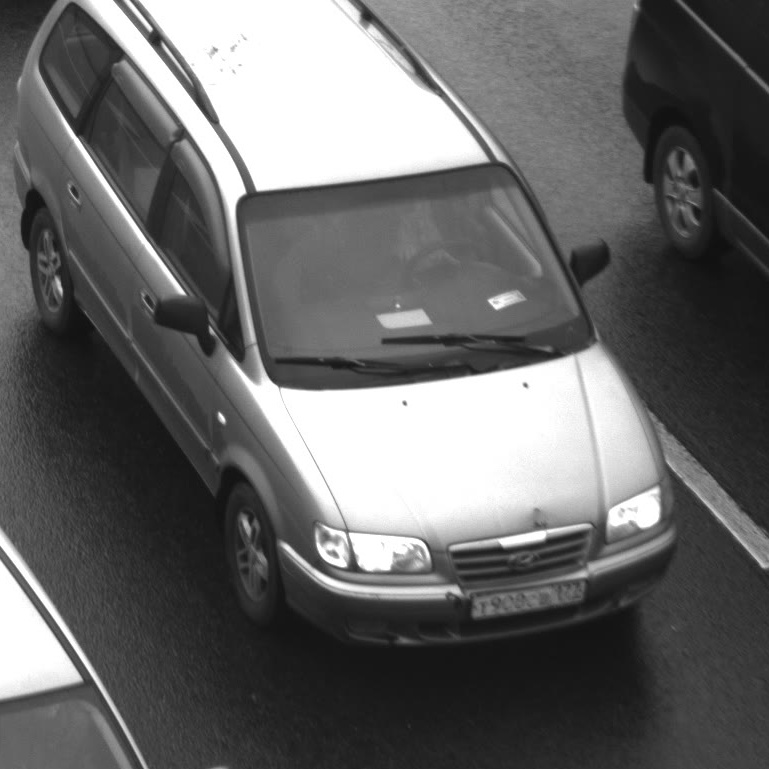plate: (462, 572, 590, 627)
